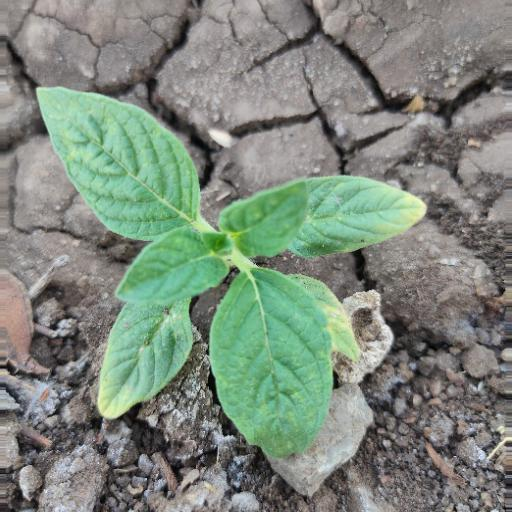crop: (27, 79, 429, 465)
